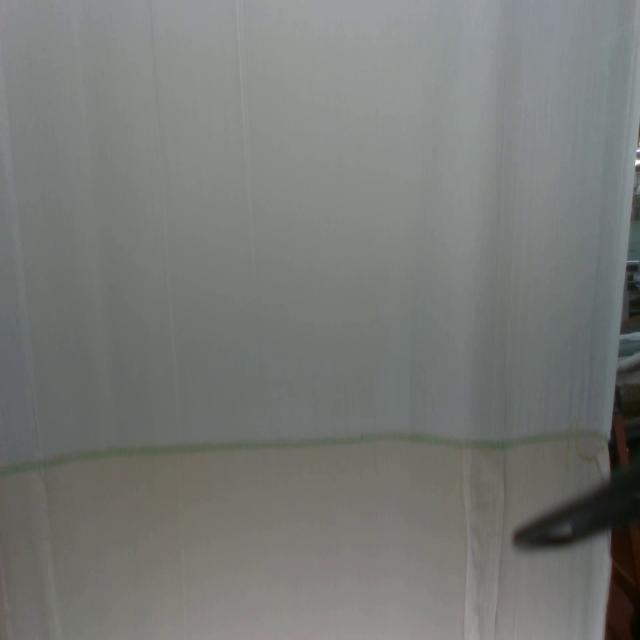crease: (0, 84, 62, 640), (148, 2, 190, 635), (235, 0, 255, 282), (456, 452, 472, 640), (492, 449, 508, 635)
